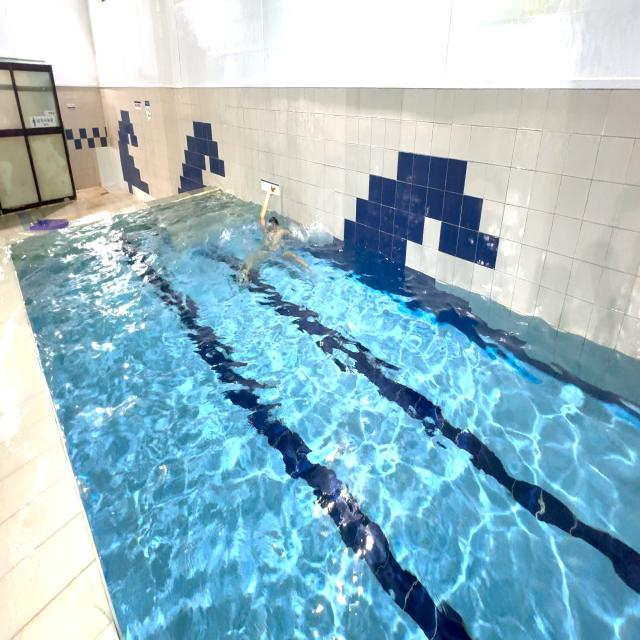Drowning: (234, 172, 313, 294)
